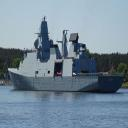Fragata: (8, 17, 127, 93)
